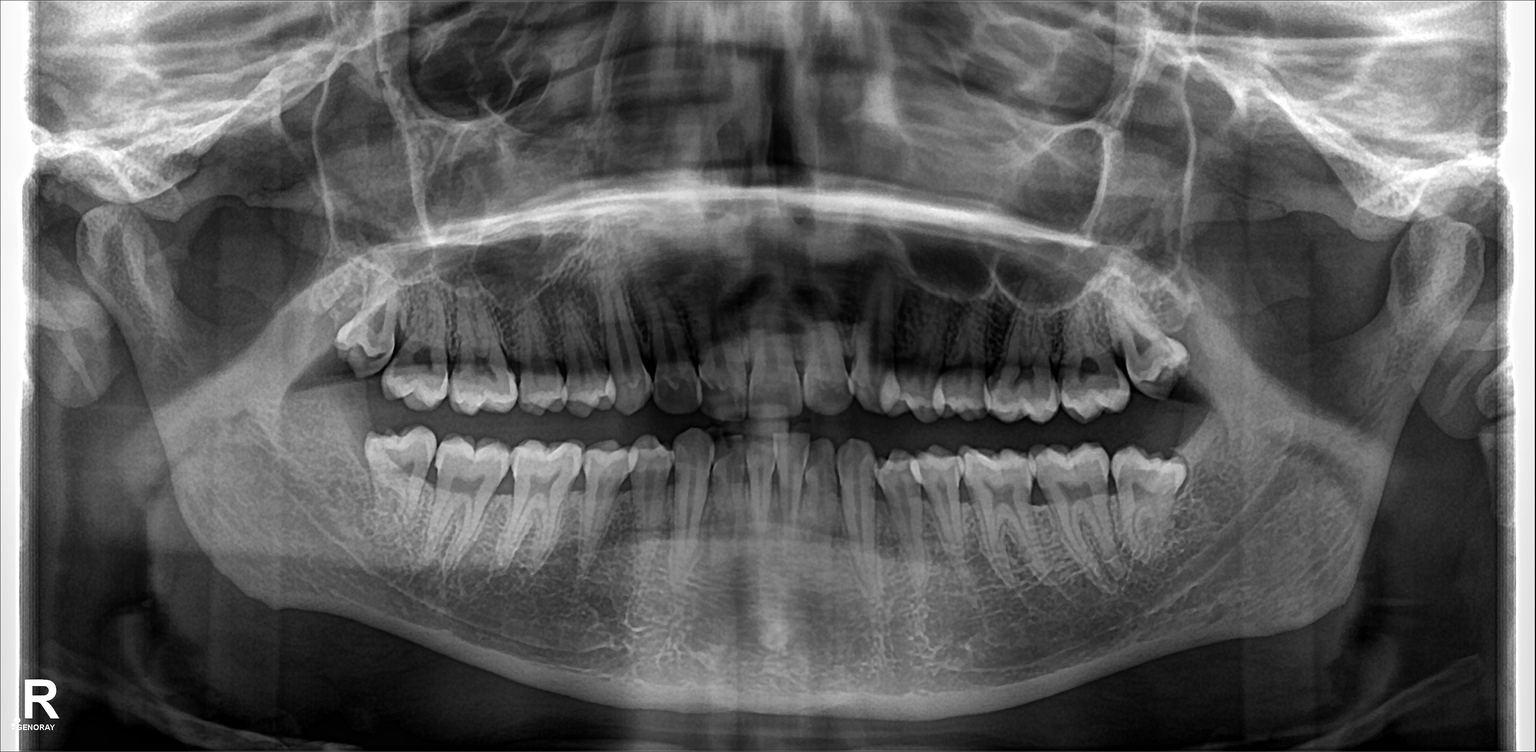Dental Caries: (648, 367, 702, 407), (469, 356, 510, 387), (1125, 332, 1167, 361), (359, 300, 389, 332), (410, 346, 438, 368)
